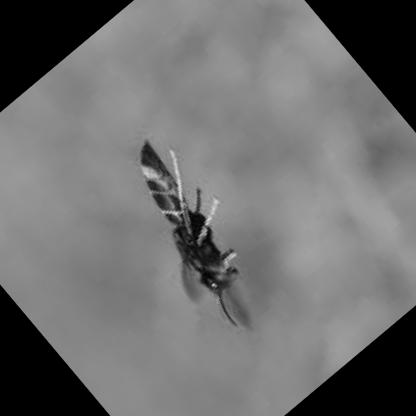asian: (74, 93, 319, 354)
